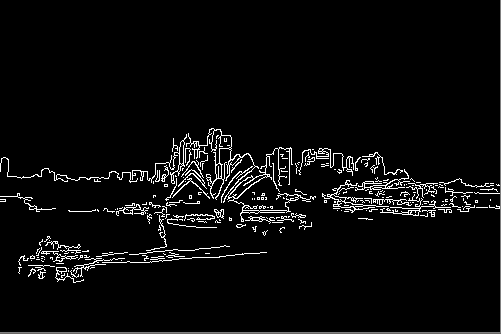opera house: (159, 145, 286, 213)
